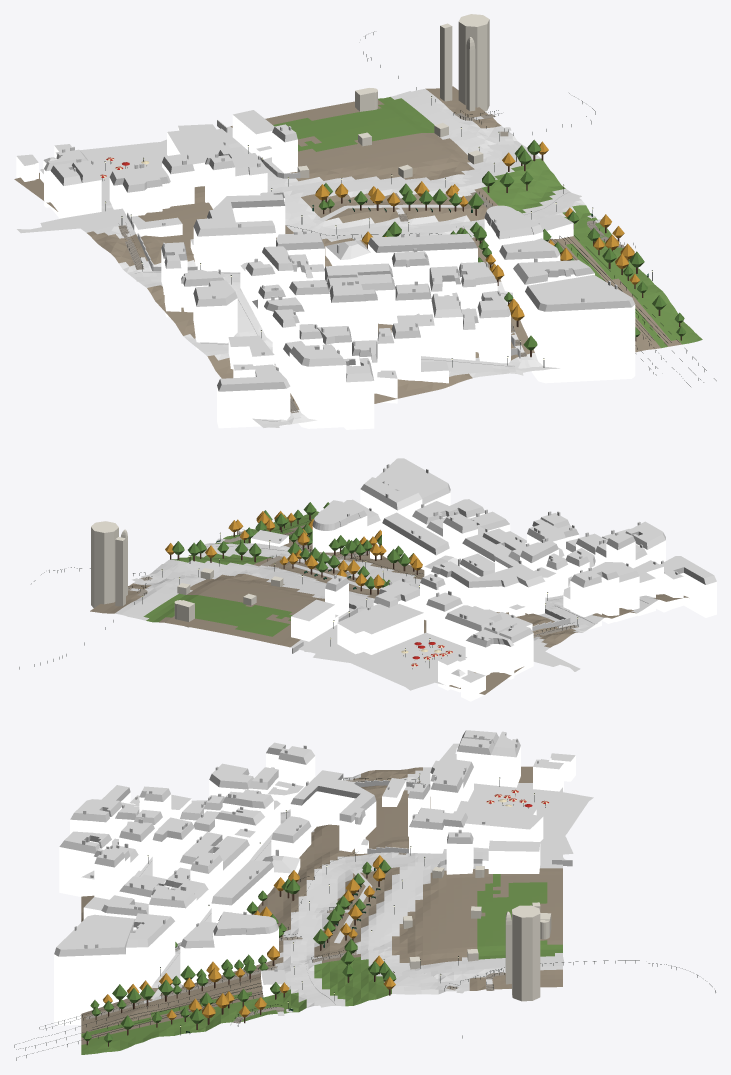
File: zone_E4.glb
The picture shows the model from 3 angles, top to bottom: view 1: azimuth 30°, elevation 25°; view 2: azimuth 150°, elevation 25°; view 3: azimuth 270°, elevation 25°; orthographic projection. The views are drawn at different scales.
Visible parts, largest first — view 1: zone_E4_batiments, zone_E4_terrain, zone_E4_sol_NOCOL, zone_E4_decor_NOCOL; view 2: zone_E4_batiments, zone_E4_terrain, zone_E4_sol_NOCOL, zone_E4_decor_NOCOL; view 3: zone_E4_batiments, zone_E4_terrain, zone_E4_sol_NOCOL, zone_E4_decor_NOCOL.
Boxes of the visible parts, x1,y1,x2,y2 form: zone_E4_batiments: (16,14,635,429); zone_E4_terrain: (14,86,702,427); zone_E4_sol_NOCOL: (17,91,671,427); zone_E4_decor_NOCOL: (100,31,716,400); zone_E4_batiments: (91,458,716,701); zone_E4_terrain: (90,511,688,694); zone_E4_sol_NOCOL: (127,528,649,690); zone_E4_decor_NOCOL: (19,502,578,669); zone_E4_batiments: (54,730,575,1025); zone_E4_terrain: (81,766,562,1054); zone_E4_sol_NOCOL: (85,743,593,1037); zone_E4_decor_NOCOL: (14,773,715,1060).
Bounding box in the file's own units: 250 × 67.88 × 271.
